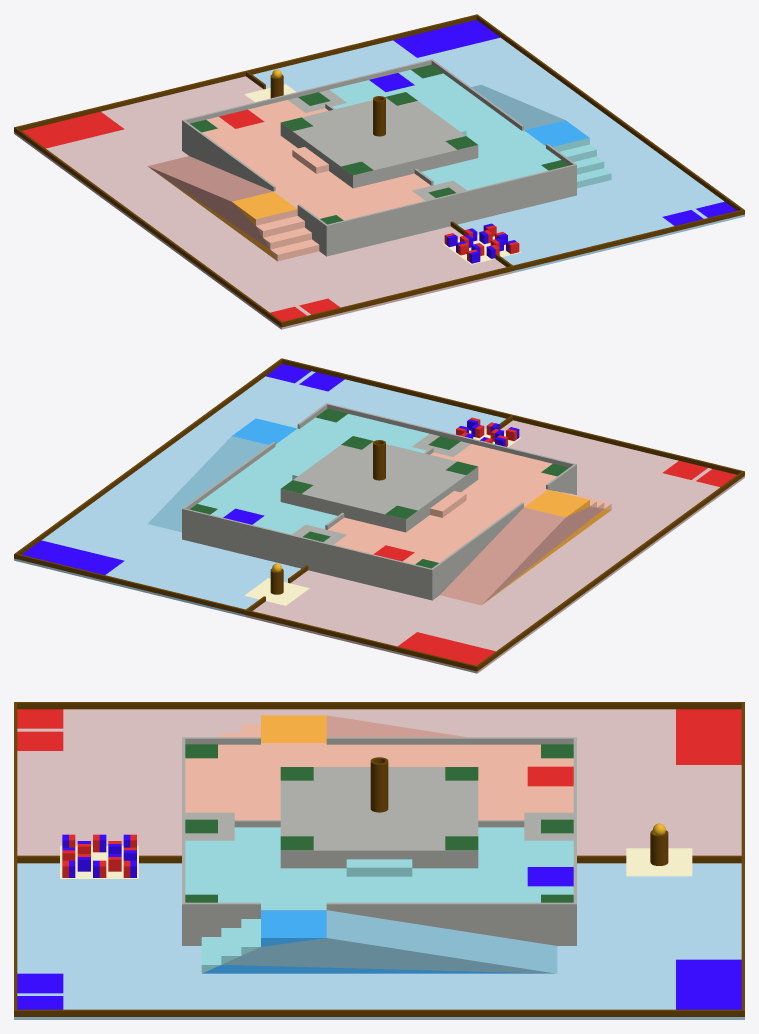
Rendered from rc2027_field.dae.
3 views of the same model, one above another, from view 1: azimuth 30°, elevation 25°; view 2: azimuth 150°, elevation 25°; view 3: azimuth 270°, elevation 25° (orthographic). The views are drawn at different scales.
Visible parts, largest first — view 1: part_004, part_005, part_032, part_000, part_018, part_019, part_011, part_027, part_015, part_013, part_001, part_007 (+9 smaller); view 2: part_004, part_005, part_032, part_000, part_019, part_018, part_011, part_015, part_027, part_026, part_001, part_014 (+7 smaller); view 3: part_005, part_004, part_011, part_032, part_019, part_000, part_026, part_018, part_027, part_025, part_007, part_001 (+14 smaller).
Part boxes in pixels (left/top/right/bottom): part_004: left=14, top=76, right=513, bottom=329; part_005: left=253, top=37, right=744, bottom=272; part_032: left=280, top=97, right=478, bottom=188; part_000: left=14, top=14, right=744, bottom=327; part_018: left=182, top=90, right=576, bottom=256; part_019: left=202, top=100, right=430, bottom=220; part_011: left=329, top=70, right=560, bottom=190; part_027: left=182, top=59, right=576, bottom=230; part_015: left=148, top=156, right=272, bottom=248; part_013: left=256, top=209, right=319, bottom=261; part_001: left=393, top=20, right=500, bottom=57; part_007: left=22, top=111, right=124, bottom=148; part_004: left=245, top=420, right=744, bottom=673; part_005: left=14, top=371, right=505, bottom=616; part_032: left=280, top=441, right=478, bottom=532; part_000: left=14, top=358, right=744, bottom=671; part_019: left=328, top=444, right=556, bottom=564; part_018: left=182, top=434, right=576, bottom=600; part_011: left=198, top=414, right=429, bottom=534; part_015: left=440, top=506, right=603, bottom=605; part_027: left=182, top=403, right=576, bottom=574; part_026: left=148, top=436, right=268, bottom=532; part_001: left=22, top=540, right=124, bottom=574; part_014: left=486, top=489, right=611, bottom=601; part_005: left=14, top=863, right=744, bottom=1019; part_004: left=17, top=709, right=741, bottom=855; part_011: left=185, top=827, right=573, bottom=909; part_032: left=280, top=767, right=478, bottom=868; part_019: left=185, top=743, right=573, bottom=819; part_000: left=14, top=702, right=744, bottom=1016; part_026: left=222, top=910, right=557, bottom=973; part_018: left=182, top=812, right=576, bottom=945; part_027: left=182, top=737, right=576, bottom=910; part_025: left=202, top=910, right=544, bottom=973; part_007: left=676, top=709, right=741, bottom=764; part_001: left=676, top=959, right=741, bottom=1009.
Size of the model in its own units: 11.1 by 11.1 by 1.75.
